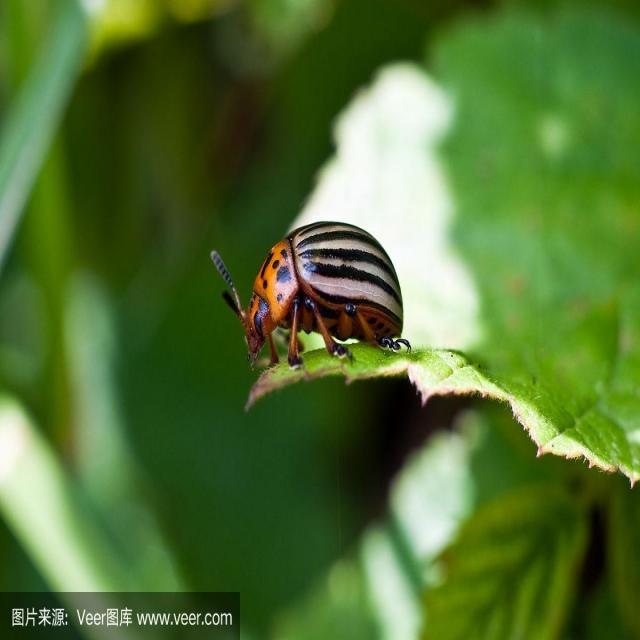ShuCaiHuaBanChong-Grown-: (224, 208, 412, 378)
